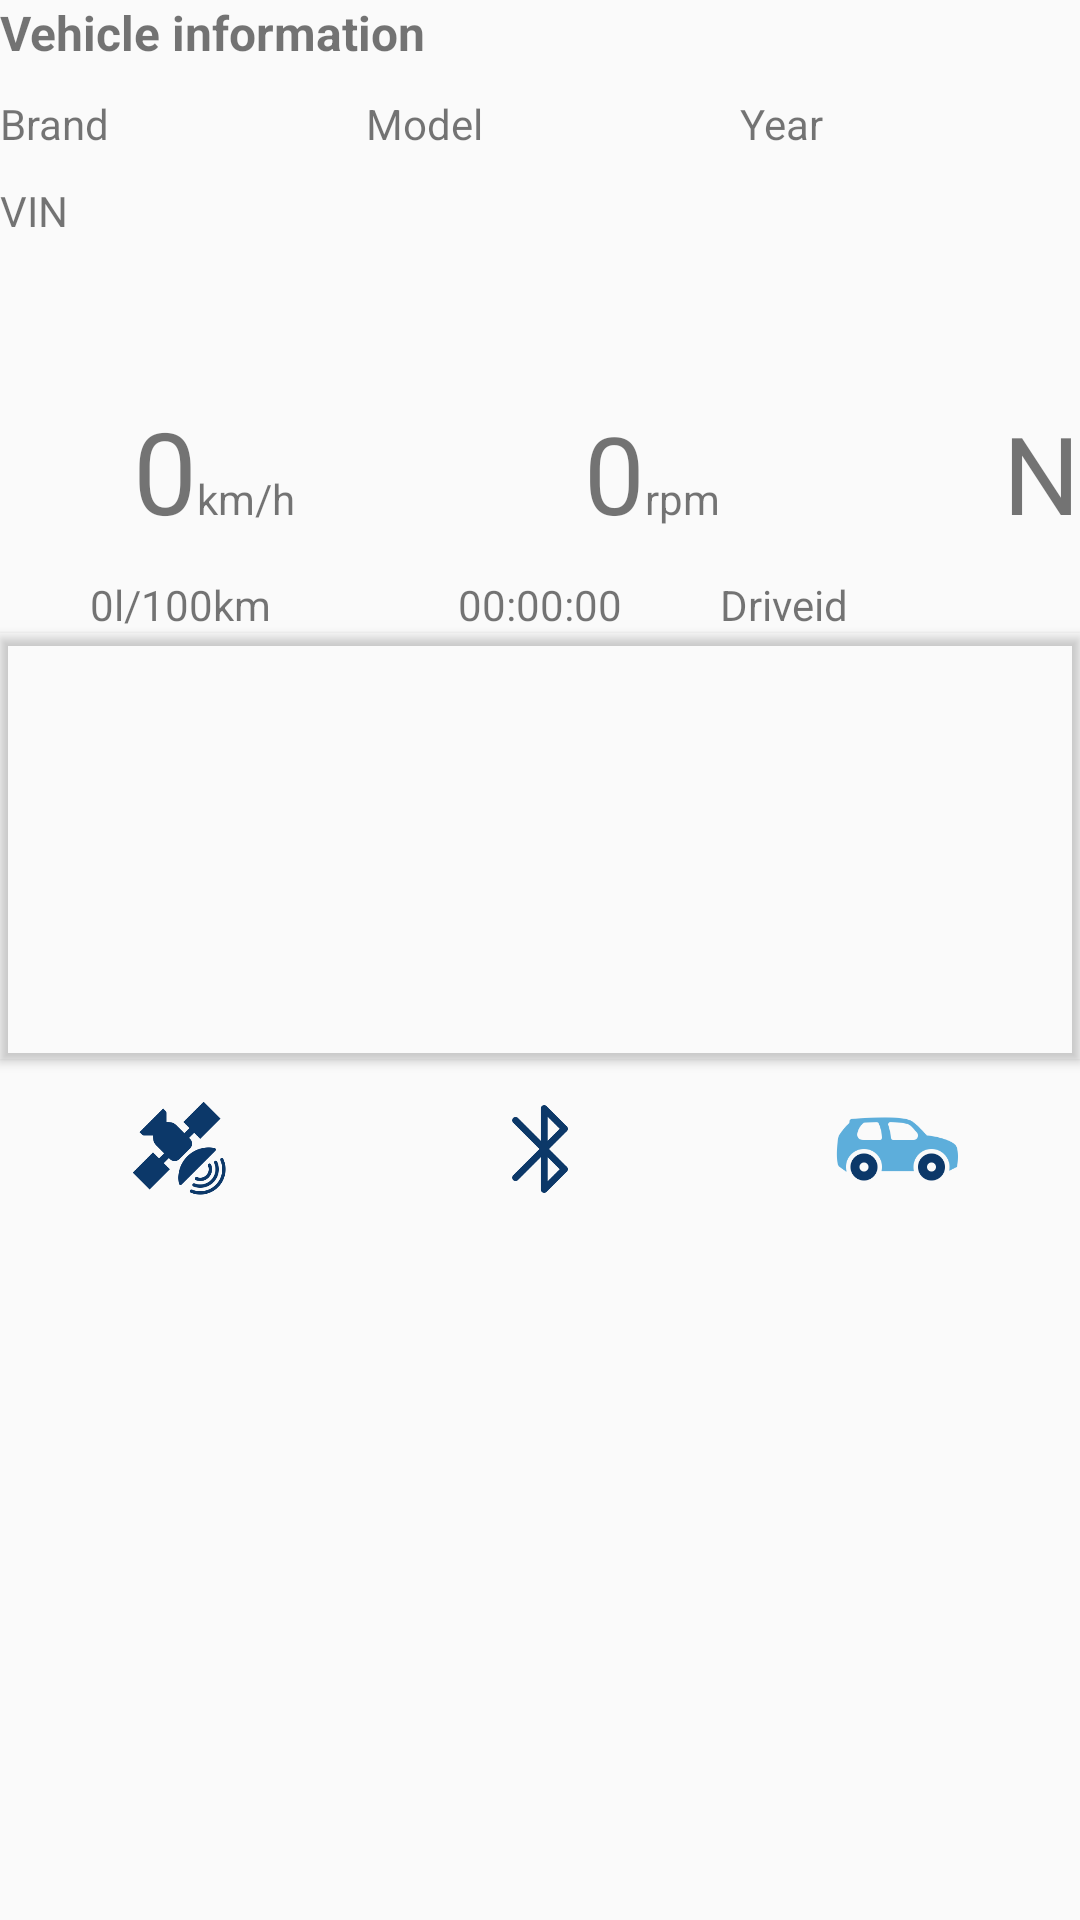

Icons on this 1080px×1920px Android screen, each with its box as (left=x1, top=y1, right=x2, bottom=y2):
satellite: (left=133, top=1102, right=226, bottom=1195)
